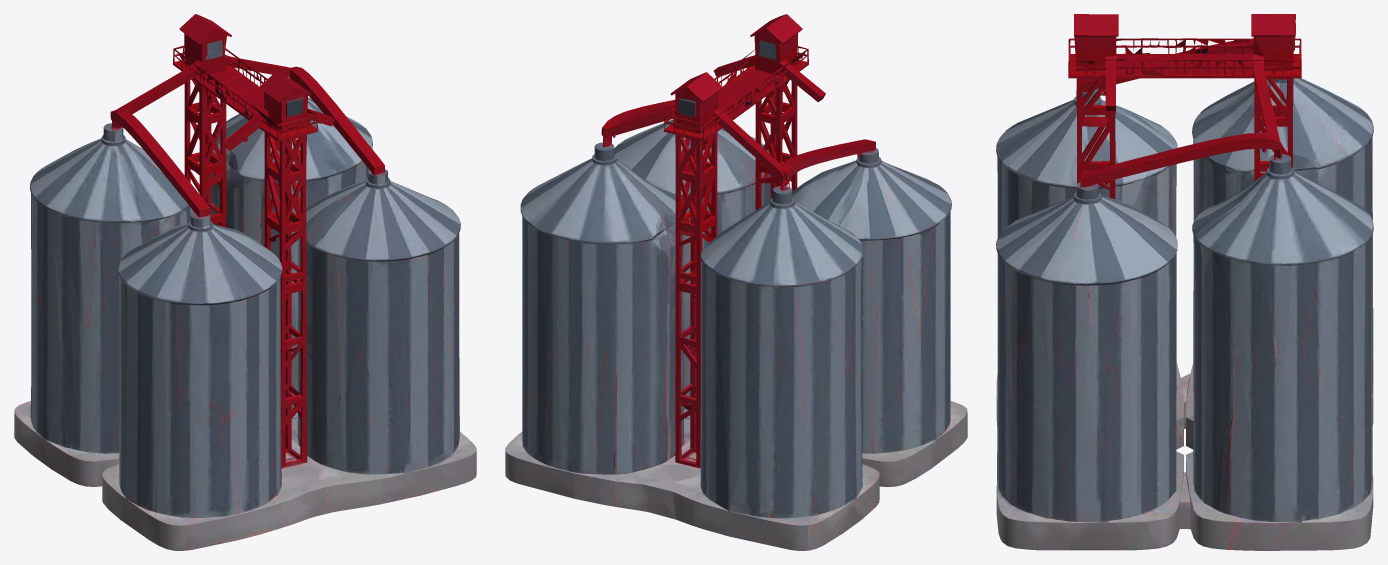
The model's file is silos.glb.
The picture shows the model from 3 angles, left to right: view 1: azimuth 30°, elevation 25°; view 2: azimuth 150°, elevation 25°; view 3: azimuth 270°, elevation 25°; orthographic projection. The views are drawn at different scales.
Bounding box in the file's own units: 1.57 × 1.9 × 1.44.
Materials: 1 (1 with a texture image).
